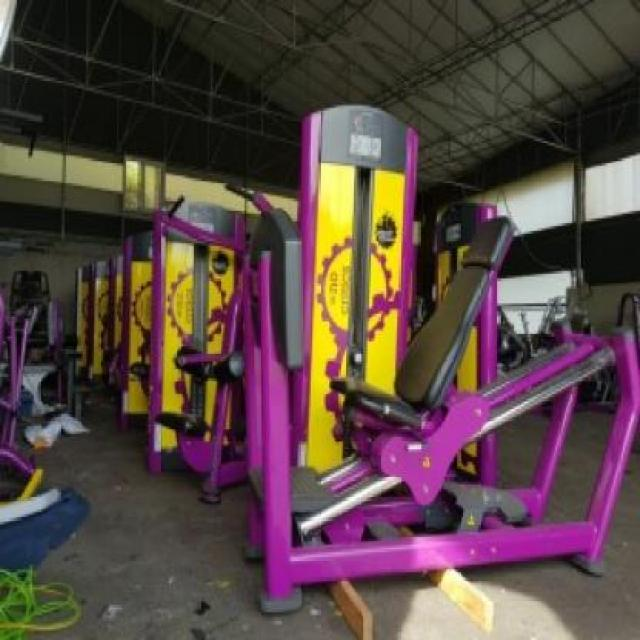leg press: (194, 95, 640, 640)
